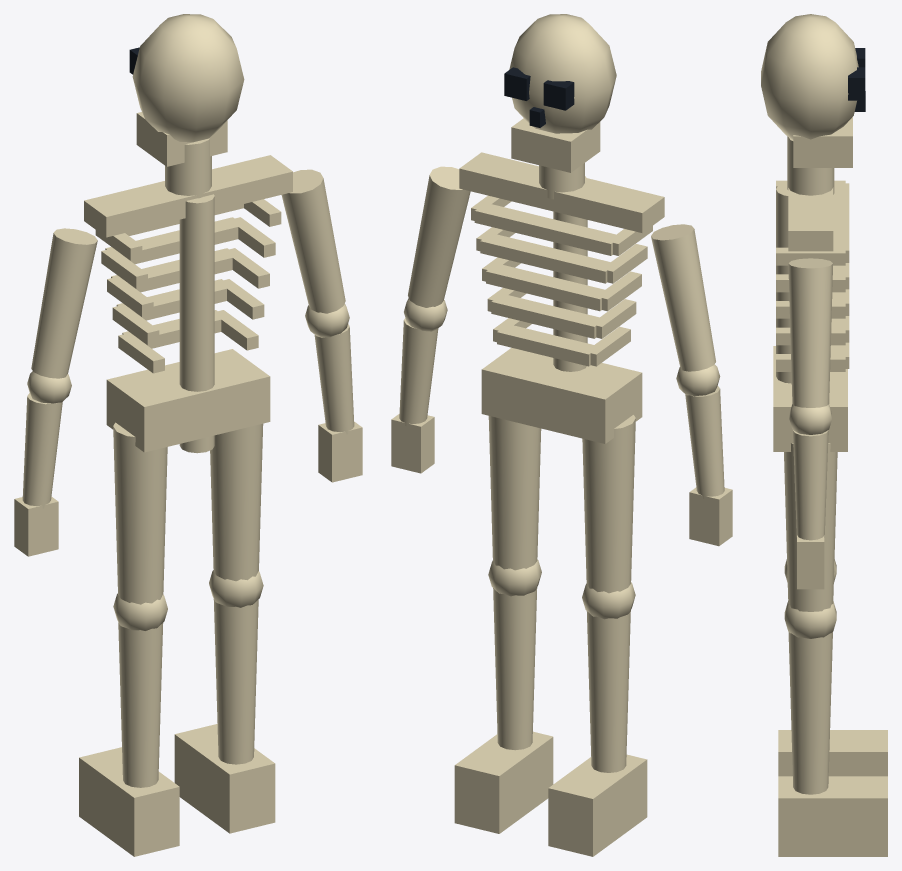
Rendered from skeleton.gltf.
3 renders of one model, left to right at view 1: azimuth 30°, elevation 25°; view 2: azimuth 150°, elevation 25°; view 3: azimuth 270°, elevation 25°, orthographic.
Visible parts, largest first — view 1: Skeleton; view 2: Skeleton; view 3: Skeleton.
Boxes of the visible parts, bbox=[...] form: Skeleton: bbox=[14, 14, 362, 856]; Skeleton: bbox=[391, 14, 732, 856]; Skeleton: bbox=[761, 14, 887, 856].
Size of the model in its own units: 0.77 by 1.78 by 0.2549.
